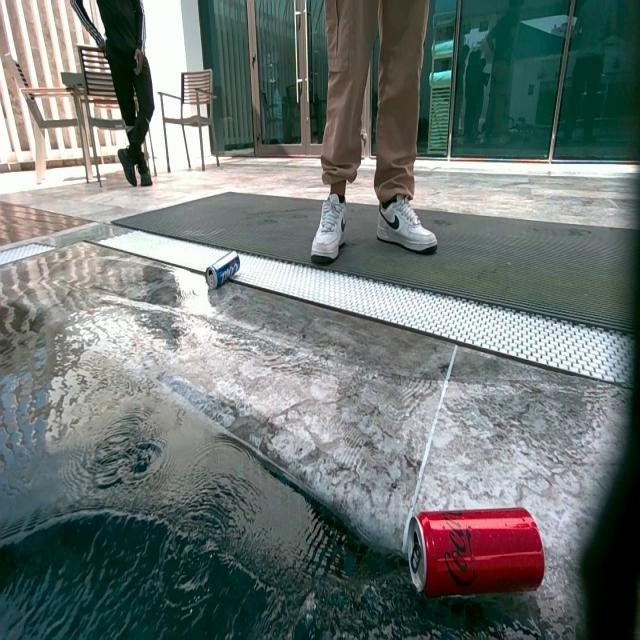Cans: (405, 510, 547, 601), (203, 253, 244, 290)
